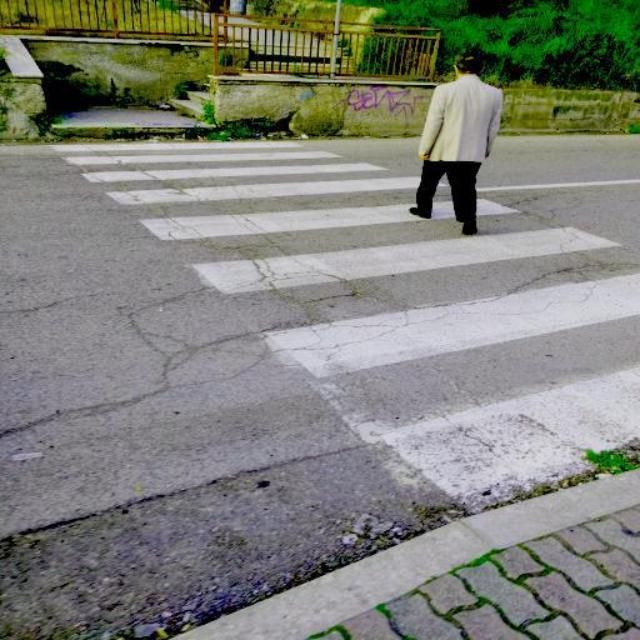sidewalk: (50, 140, 640, 510)
